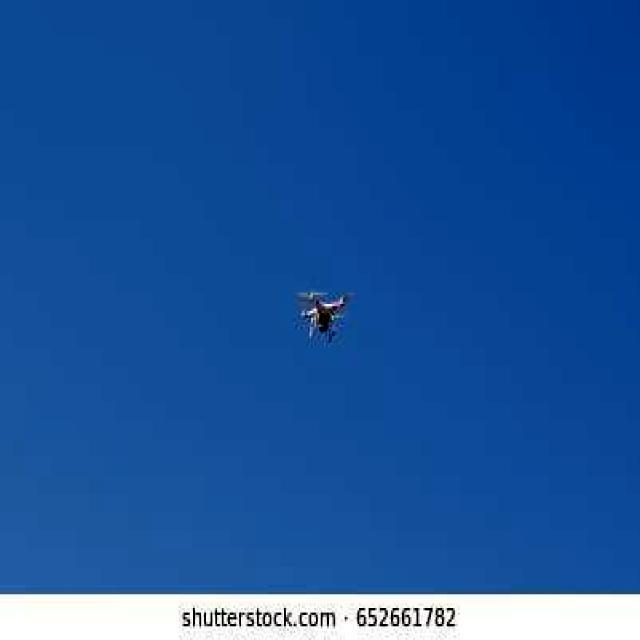drone: (299, 281, 349, 348)
